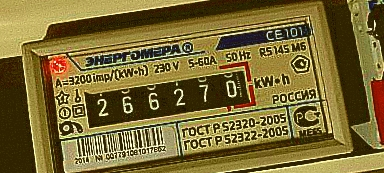0: (223, 77, 239, 99)
2: (93, 96, 111, 118), (171, 85, 187, 107)
6: (119, 93, 135, 115), (146, 90, 162, 111)
7: (196, 82, 211, 102)
screen: (73, 57, 263, 135)
